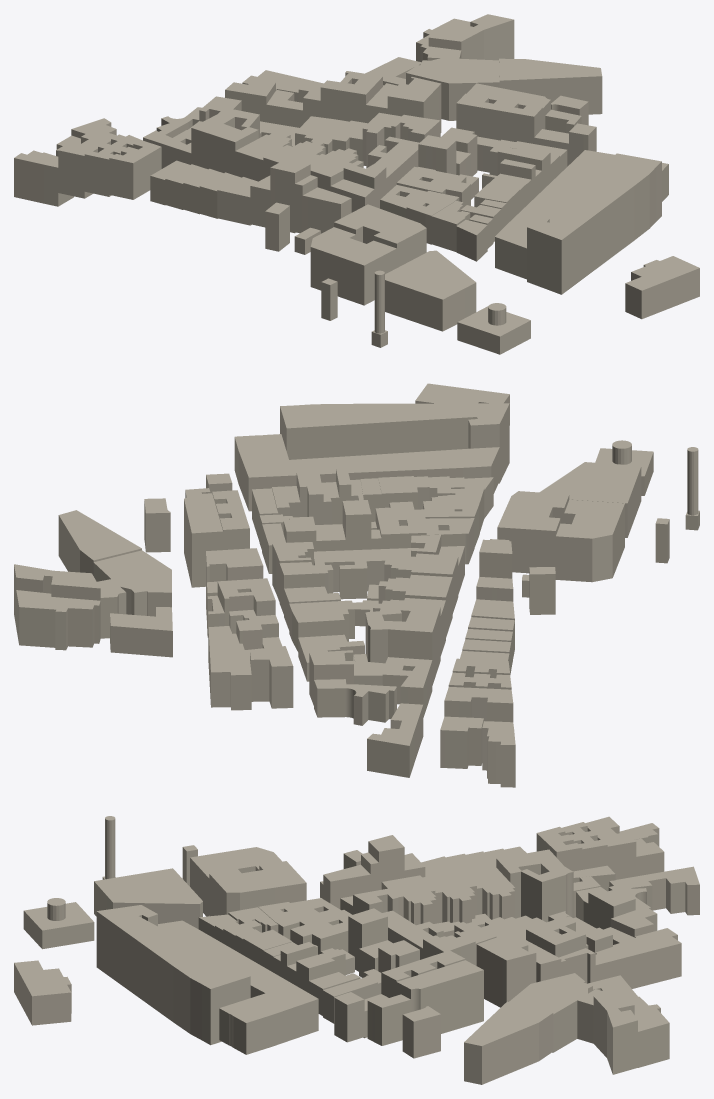
Rendered from senglea_59_31_far.glb.
The picture shows the model from 3 angles, top to bottom: view 1: azimuth 30°, elevation 25°; view 2: azimuth 150°, elevation 25°; view 3: azimuth 270°, elevation 25°; orthographic projection. The views are drawn at different scales.
Visible parts, largest first — view 1: geometry_0; view 2: geometry_0; view 3: geometry_0.
Boxes of the visible parts, x1,y1,x2,y2 form: geometry_0: [14, 14, 699, 354]; geometry_0: [14, 383, 699, 787]; geometry_0: [14, 816, 699, 1084].
Bounding box in the file's own units: 153 × 26.96 × 176.
